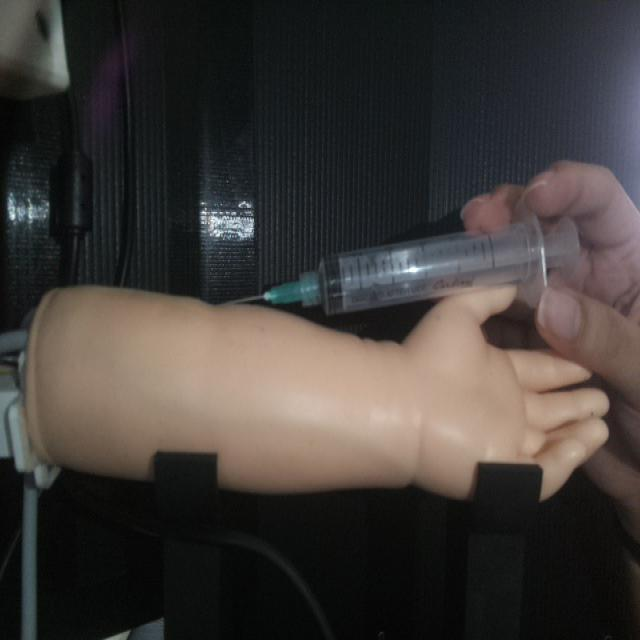Outside: (219, 203, 587, 316)
